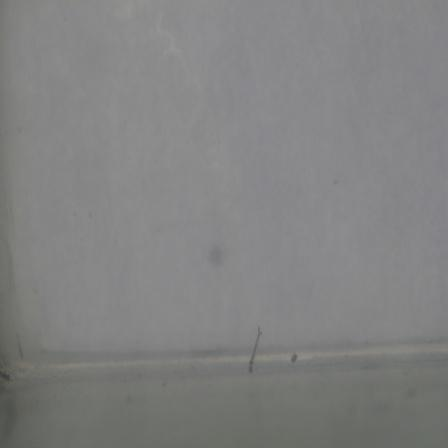Jentik-Nyamuk: (246, 322, 264, 371)
